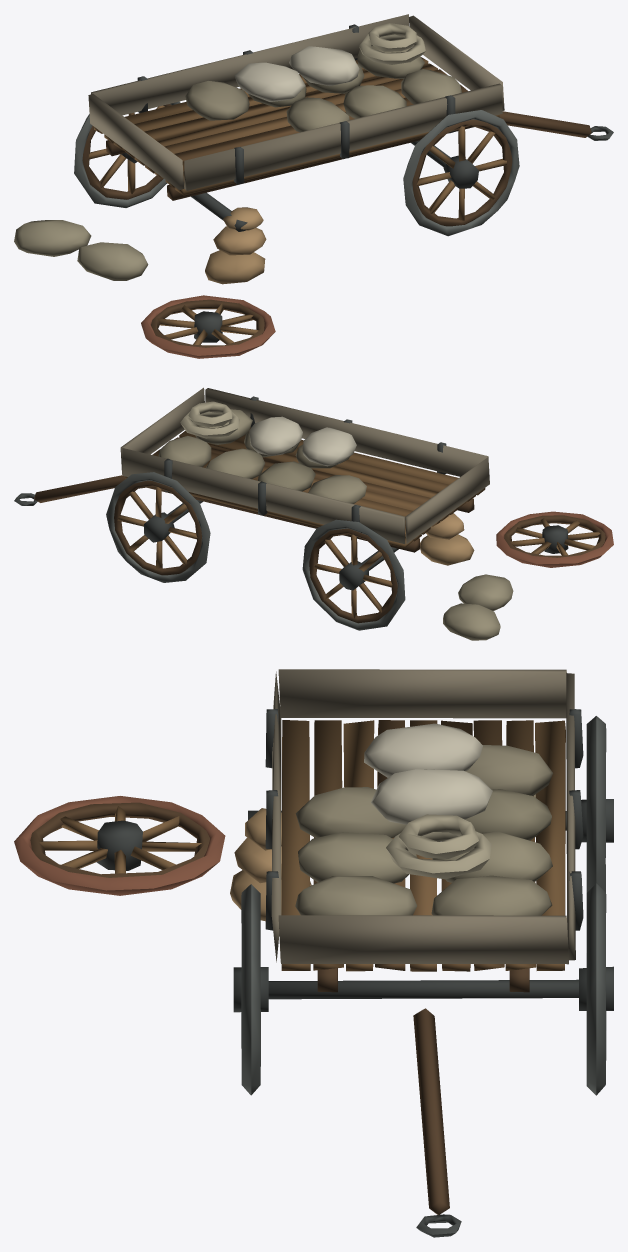
File: haul_wagon_b_lod2.glb
3 renders of one model, top to bottom at view 1: azimuth 30°, elevation 25°; view 2: azimuth 150°, elevation 25°; view 3: azimuth 270°, elevation 25°, orthographic. The views are drawn at different scales.
Parts seen in each view (by area): view 1: Surface.001; view 2: Surface.001; view 3: Surface.001.
Boxes of the visible parts, left/top/right/bottom form: Surface.001: left=14, top=14, right=613, bottom=358; Surface.001: left=14, top=387, right=613, bottom=640; Surface.001: left=14, top=669, right=613, bottom=1237.
Bounding box in the file's own units: 6.45 × 1.75 × 3.75.
